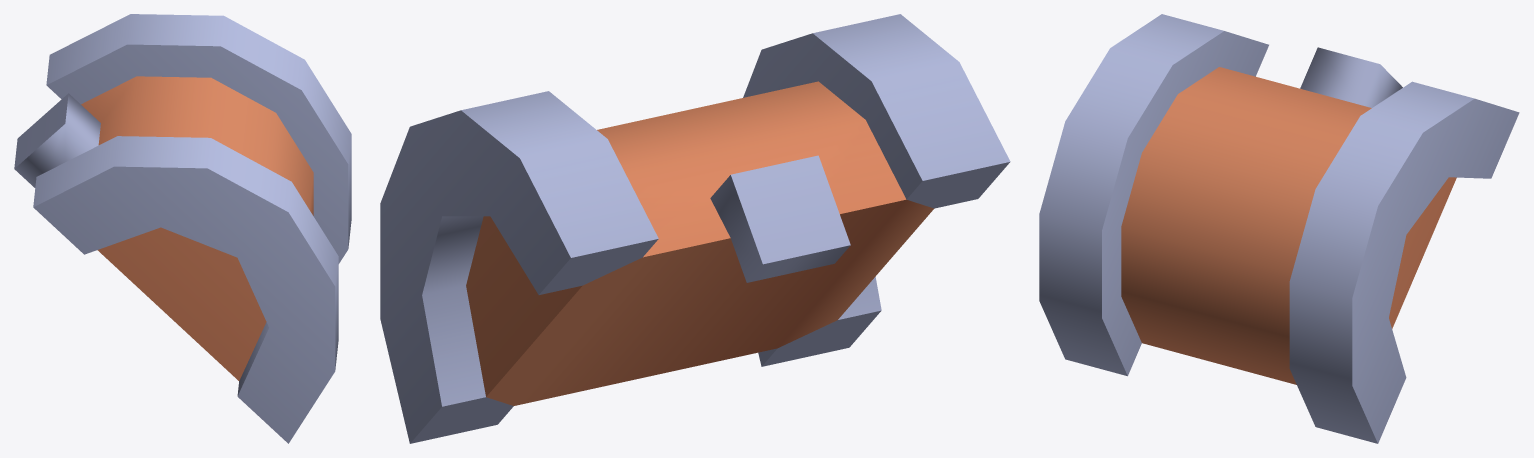
The model's file is n5_n5_n5_lid_lev5.glb.
The picture shows the model from 3 angles, left to right: view 1: azimuth 30°, elevation 25°; view 2: azimuth 150°, elevation 25°; view 3: azimuth 270°, elevation 25°; orthographic projection. The views are drawn at different scales.
Parts seen in each view (by area): view 1: n5_n5_n5_lid_lev5; view 2: n5_n5_n5_lid_lev5; view 3: n5_n5_n5_lid_lev5.
Part boxes in pixels (x1,y1,x2,y2): n5_n5_n5_lid_lev5: (14,14,351,443); n5_n5_n5_lid_lev5: (380,14,1010,443); n5_n5_n5_lid_lev5: (1039,14,1519,443).
Bounding box in the file's own units: 1.58 × 1.06 × 1.64.
Materials: 1 (1 with a texture image).
